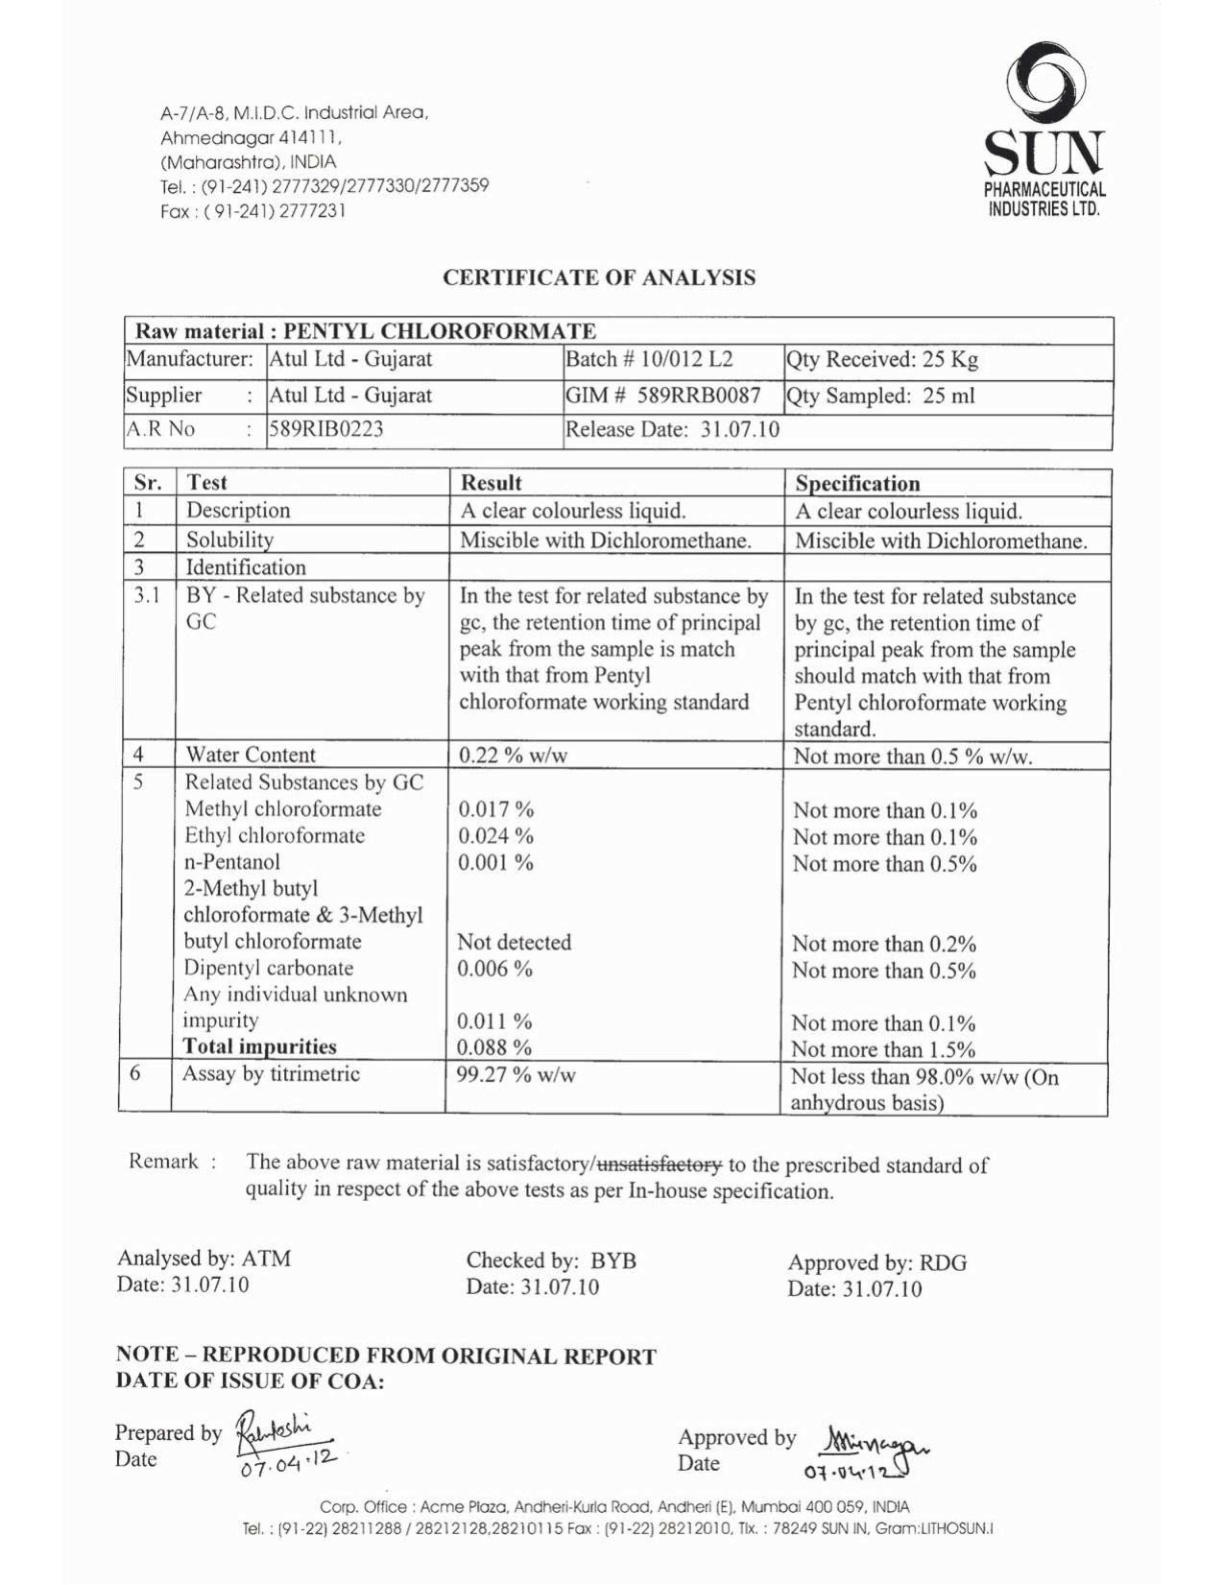full_lined: (117, 467, 1113, 1118)
merged_cells: (123, 314, 1115, 450)
nolines: (111, 1248, 973, 1303)
